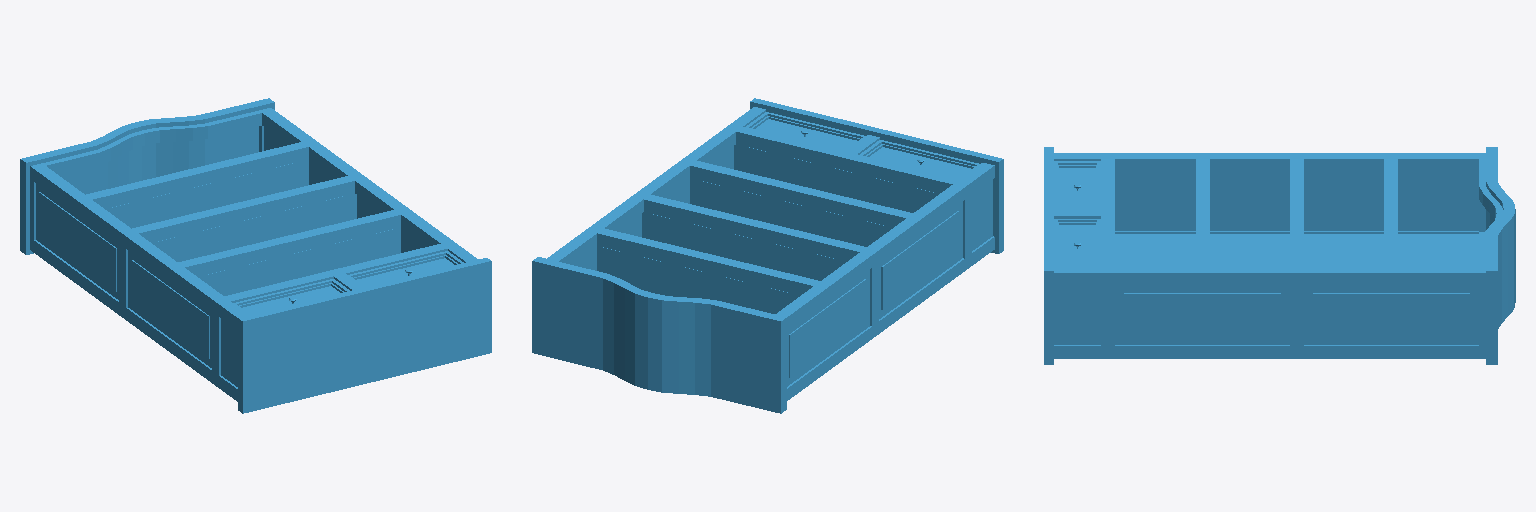
URDF robot description (generated_robot):
<robot name="generated_robot">
    <link name="Bookshelf_base" />
    <link name="Bookshelf">
        <visual name="door_frame-6">
            <origin xyz="0 0 0 " />
            <geometry>
                <mesh filename="Bookshelf.obj" />
            </geometry>
        </visual>
        <collision>
            <origin xyz="0 0 0 " />
            <geometry>
                <mesh filename="Bookshelf_collision.obj" />
            </geometry>
        </collision>
    </link>    
    <joint name="joint_0" type="fixed">
        <origin xyz="0 0 0" />
        <axis xyz="0 -1 0" />
        <child link="Bookshelf_base" />
        <parent link="Bookshelf" />
    </joint>
</robot>

--- Facts derived from the render (not from the file) ---
3 views of the same robot in one strip: view 1: azimuth 30°, elevation 25°; view 2: azimuth 150°, elevation 25°; view 3: azimuth 270°, elevation 25° (orthographic).
Robot: generated_robot — 2 links, 1 joints (1 fixed); root link Bookshelf; default pose: all joints at 0.
Links seen in each view (by area): view 1: Bookshelf; view 2: Bookshelf; view 3: Bookshelf.
Link boxes in pixels (x1,y1,x2,y2): Bookshelf: (20, 98, 491, 413); Bookshelf: (532, 98, 1003, 413); Bookshelf: (1044, 147, 1515, 364).
Bounding box of the posed robot: 124 × 200 × 44.09 m (x, y, z).
1 mesh visuals loaded from 1 distinct referenced files (1 OBJ).